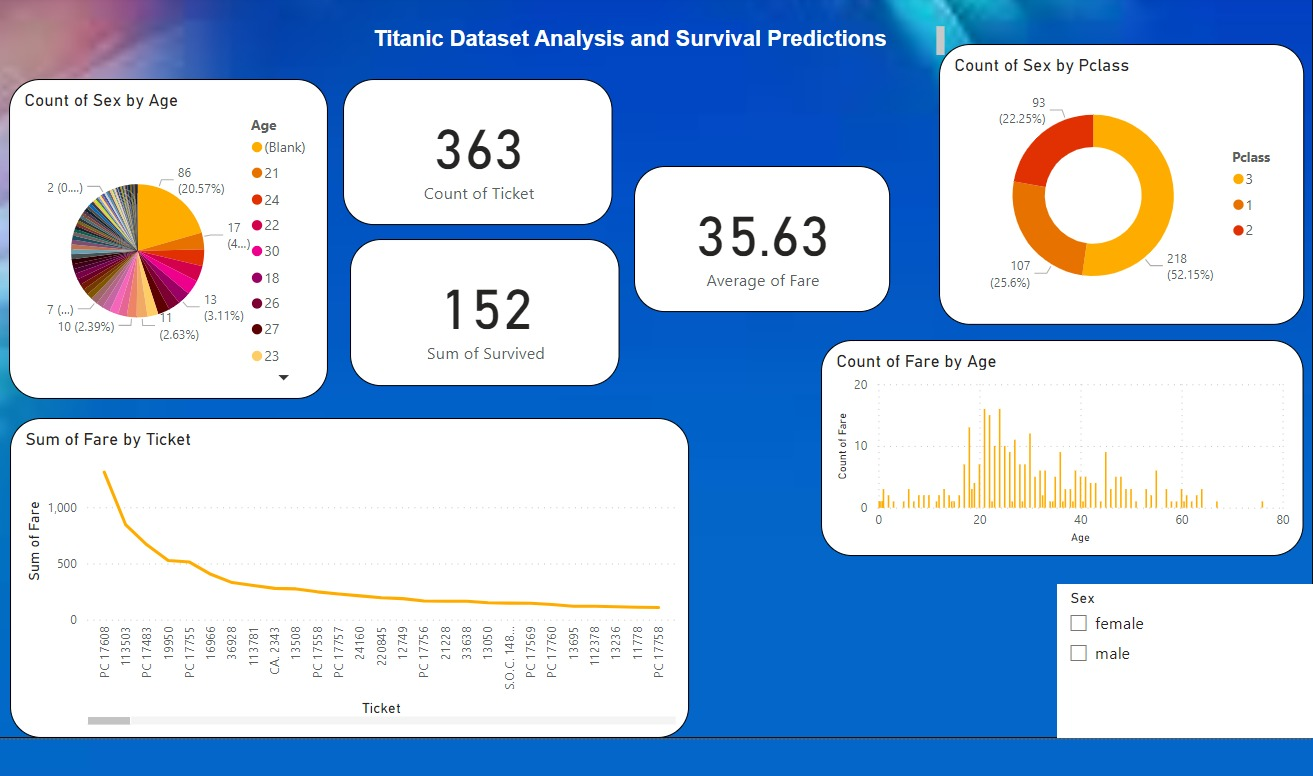

What the dashboard file says about the page in this screenshot:
{"tool":"powerbi","page":{"name":"Page 1","canvas":[1280,720],"ordinal":0},"visuals":[{"type":"pieChart","fields":{"Category":["titanic.Age"],"Y":["CountNonNull(titanic.Sex)"]},"box":[12.6,79.7,310,311],"z":0},{"type":"card","fields":{"Values":["Sum(titanic.Survived)"]},"box":[344.1,235.2,262.4,142.9],"z":1000},{"type":"lineChart","fields":{"Category":["titanic.Ticket"],"Y":["Sum(titanic.Fare)"]},"box":[13.6,409.2,659.9,311],"z":2000},{"type":"card","fields":{"Values":["Count(titanic.Ticket)"]},"box":[337.3,79.7,262.4,141.9],"z":3000},{"type":"card","fields":{"Values":["Avg(titanic.Fare)"]},"box":[620.1,164.3,248.8,141.9],"z":4000},{"type":"slicer","fields":{"Values":["titanic.Sex"]},"box":[1031.2,570.5,248.8,149.7],"z":5000},{"type":"donutChart","fields":{"Category":["titanic.Pclass"],"Y":["CountNonNull(titanic.Sex)"]},"box":[916.5,45.7,354.7,273.1],"z":6000},{"type":"columnChart","fields":{"Category":["titanic.Age"],"Y":["Count(titanic.Fare)"]},"box":[801.8,333.4,469.4,209.9],"z":7000},{"type":"textbox","box":[313,23.3,614.2,43.7],"z":8000}]}

Visuals, with their boxes in screenshot pixels (x1, y1, x2, y2):
pieChart - titanic.Age x CountNonNull(titanic.Sex): {"x1": 13, "y1": 84, "x2": 326, "y2": 399}
card - Sum(titanic.Survived): {"x1": 348, "y1": 241, "x2": 614, "y2": 386}
lineChart - titanic.Ticket x Sum(titanic.Fare): {"x1": 14, "y1": 417, "x2": 681, "y2": 732}
card - Count(titanic.Ticket): {"x1": 341, "y1": 84, "x2": 607, "y2": 228}
card - Avg(titanic.Fare): {"x1": 627, "y1": 170, "x2": 879, "y2": 313}
slicer - titanic.Sex: {"x1": 1043, "y1": 581, "x2": 1295, "y2": 732}
donutChart - titanic.Pclass x CountNonNull(titanic.Sex): {"x1": 927, "y1": 50, "x2": 1286, "y2": 326}
columnChart - titanic.Age x Count(titanic.Fare): {"x1": 811, "y1": 341, "x2": 1286, "y2": 553}
textbox: {"x1": 317, "y1": 27, "x2": 938, "y2": 71}
